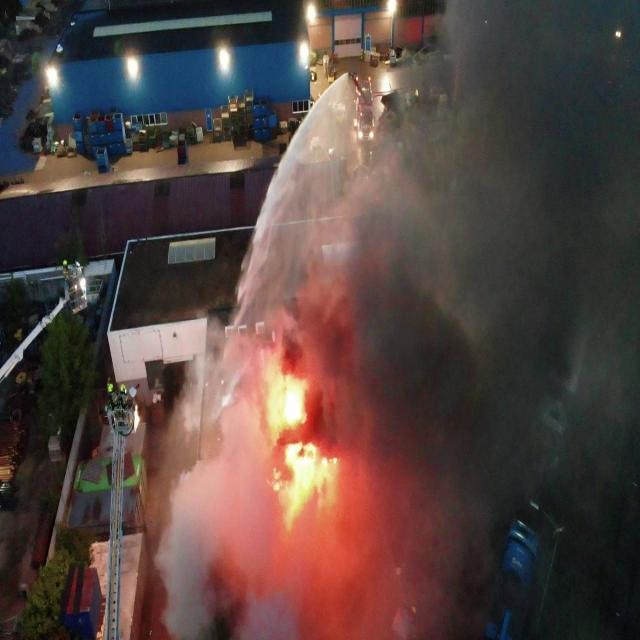Fire: (272, 442, 338, 499), (284, 388, 302, 424)
Smoke: (156, 0, 640, 640)
